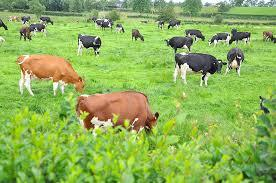cow: (75, 90, 160, 135), (15, 54, 85, 97), (172, 52, 227, 86), (223, 47, 245, 76), (77, 32, 102, 57), (163, 36, 195, 53), (207, 32, 232, 47), (228, 32, 251, 46), (184, 29, 206, 42), (19, 24, 33, 42), (25, 23, 47, 34), (95, 18, 111, 32), (131, 28, 145, 41), (167, 19, 182, 30), (39, 16, 55, 25), (6, 14, 20, 24), (262, 30, 273, 42), (114, 23, 125, 34), (0, 18, 8, 31), (21, 15, 31, 24), (157, 20, 164, 30), (269, 35, 276, 44)
